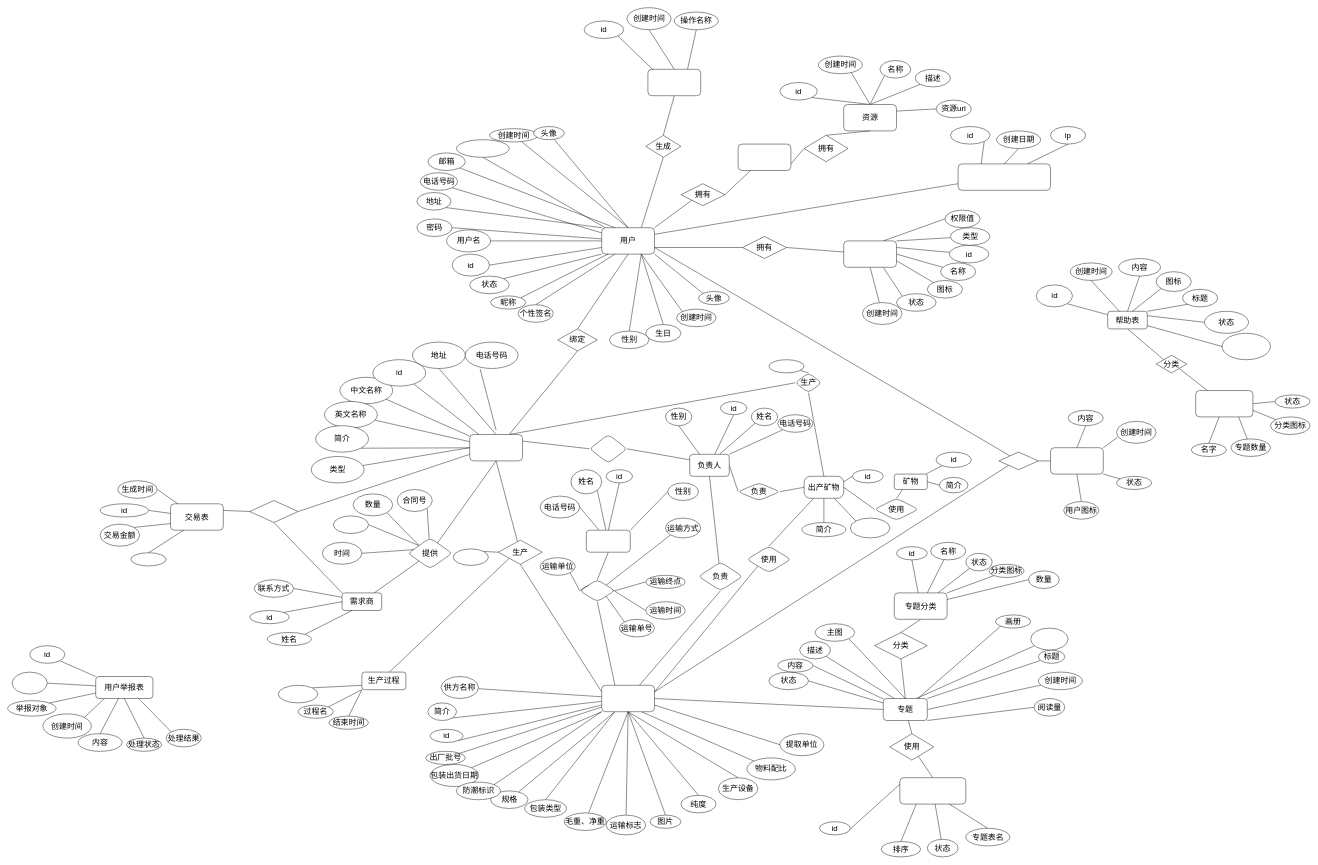
Image size: 1318x865. Some labels were removed from this diagram. Each missing label, with the centre of its shape:
"举报类型" belongs at (29,683).
"交易" belongs at (273,511).
"产地" belongs at (870,528).
"分类名称" belongs at (1049,639).
"后台用户登录日志表" belongs at (1004,176).
"备注" belongs at (148,559).
"安排" belongs at (608,448).
"工厂" belongs at (495,447).
"帮助分类表" belongs at (1224,403).
"开始时间" belongs at (298,694).
"打包产品" belongs at (627,698).
"批号" belongs at (786,366).
"提取方法" belongs at (470,556).
"操作日志" belongs at (674,82).
"最后登录时间" belongs at (482,148).
"权限" belongs at (869,253).
"流水号" belongs at (350,524).
"角色" belongs at (764,157).
"评论" belongs at (1018,461).
"评论表" belongs at (1076,460).
"运输" belongs at (597,590).
"运输人员" belongs at (608,541).
"阅读数量" belongs at (1246,346).
"首页推荐专题表" belongs at (932,790).
